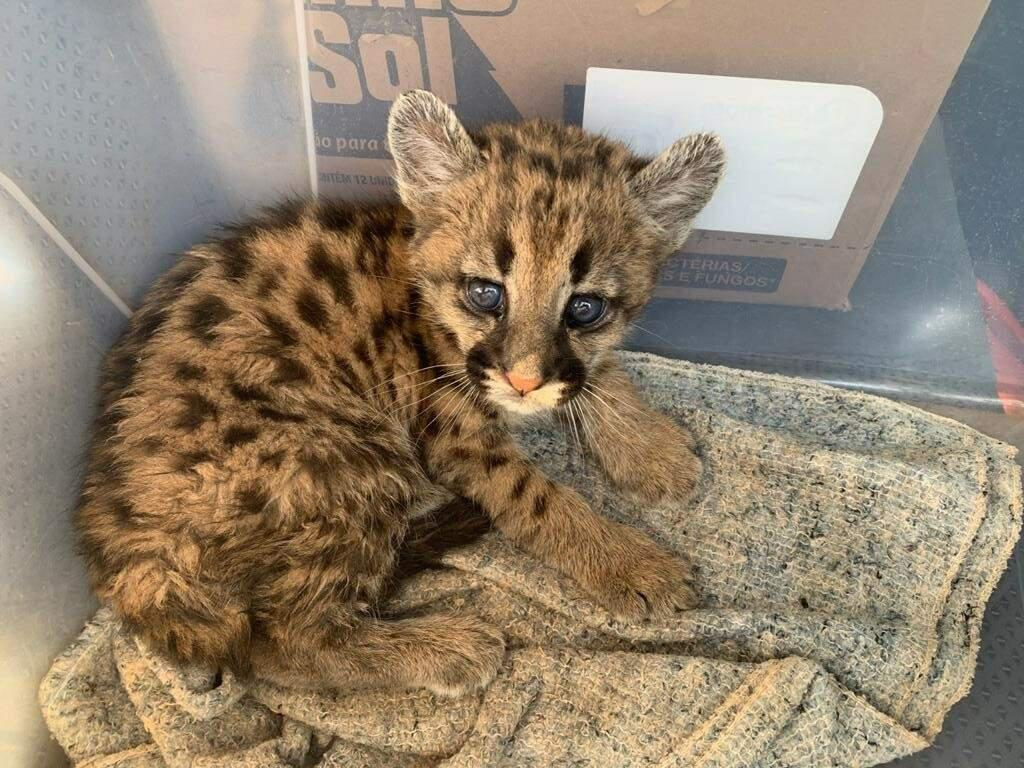OncaParda: (68, 81, 748, 697)
